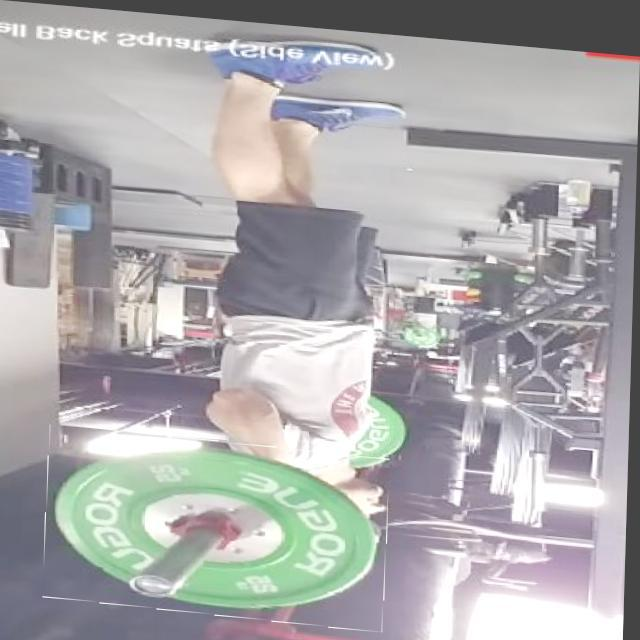barbell: (48, 425, 393, 624)
